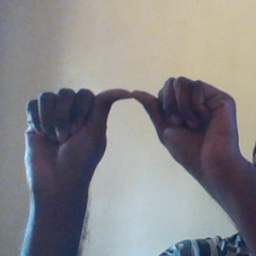A: (25, 74, 243, 202)
